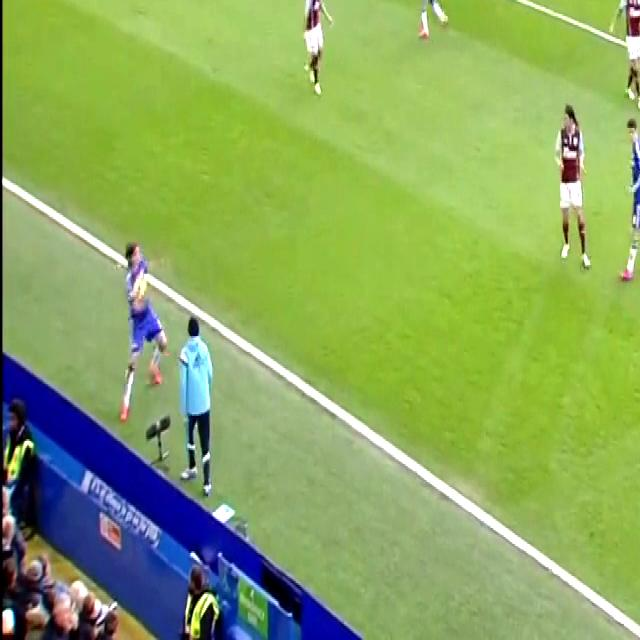ball: (128, 261, 156, 312)
soccer-player: (116, 226, 172, 428), (546, 84, 594, 284), (295, 0, 336, 101), (618, 106, 640, 292), (610, 0, 640, 112), (413, 0, 455, 48)
